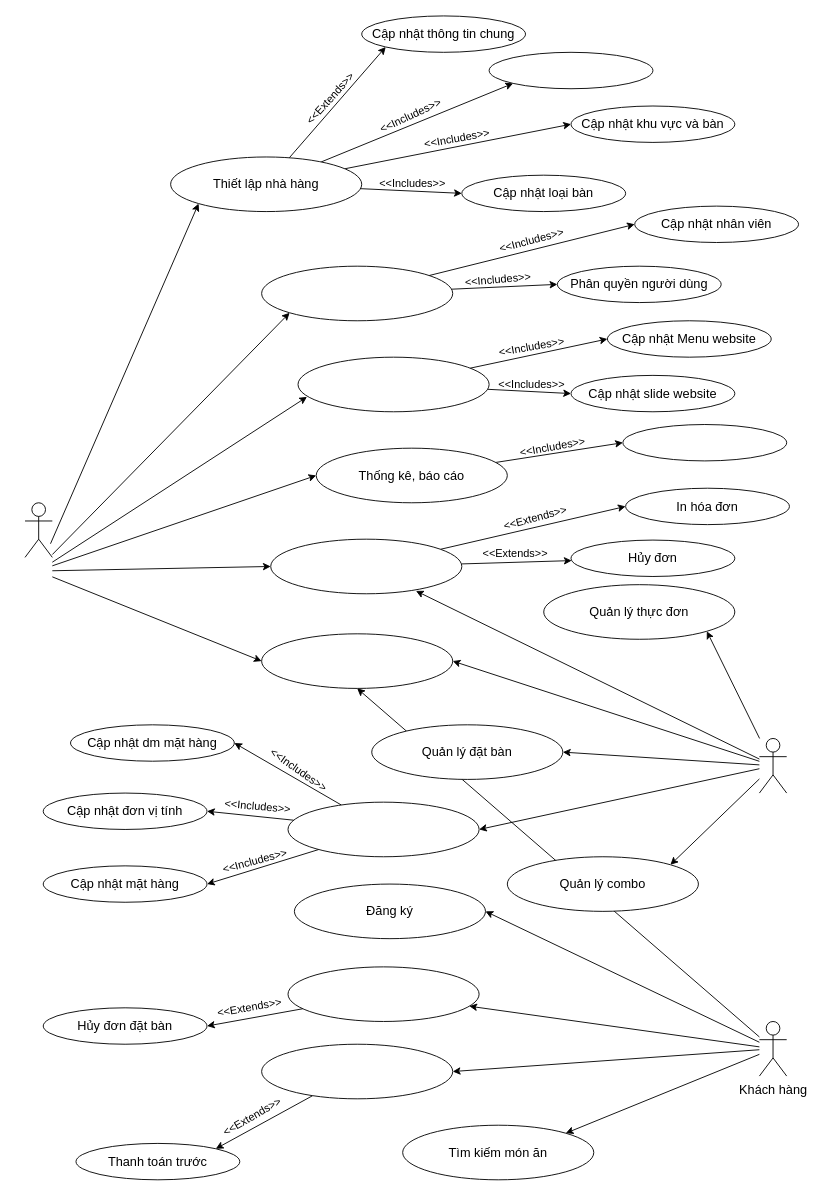
The diagram is 823 pixels wide and 1196 high, and some of its shapes have lost their labels. The box of each missing label's shape, as (x1, y1, x2, y2) in pixels:
Cập nhật cơ sở: (488, 51, 653, 89)
Nhân viên: (758, 738, 787, 793)
Quản lý hóa đơn: (270, 538, 462, 594)
Quản lý hệ thống: (297, 356, 489, 412)
Quản lý mặt hàng: (287, 801, 479, 857)
Quản lý nhân viên: (261, 265, 453, 321)
Quản lý đơn đặt bàn: (287, 966, 479, 1021)
Quản trị: (24, 502, 52, 557)
Xuất báo cáo: (622, 424, 787, 461)
Đăng nhập: (261, 633, 453, 688)
Đặt bàn: (261, 1043, 453, 1099)
